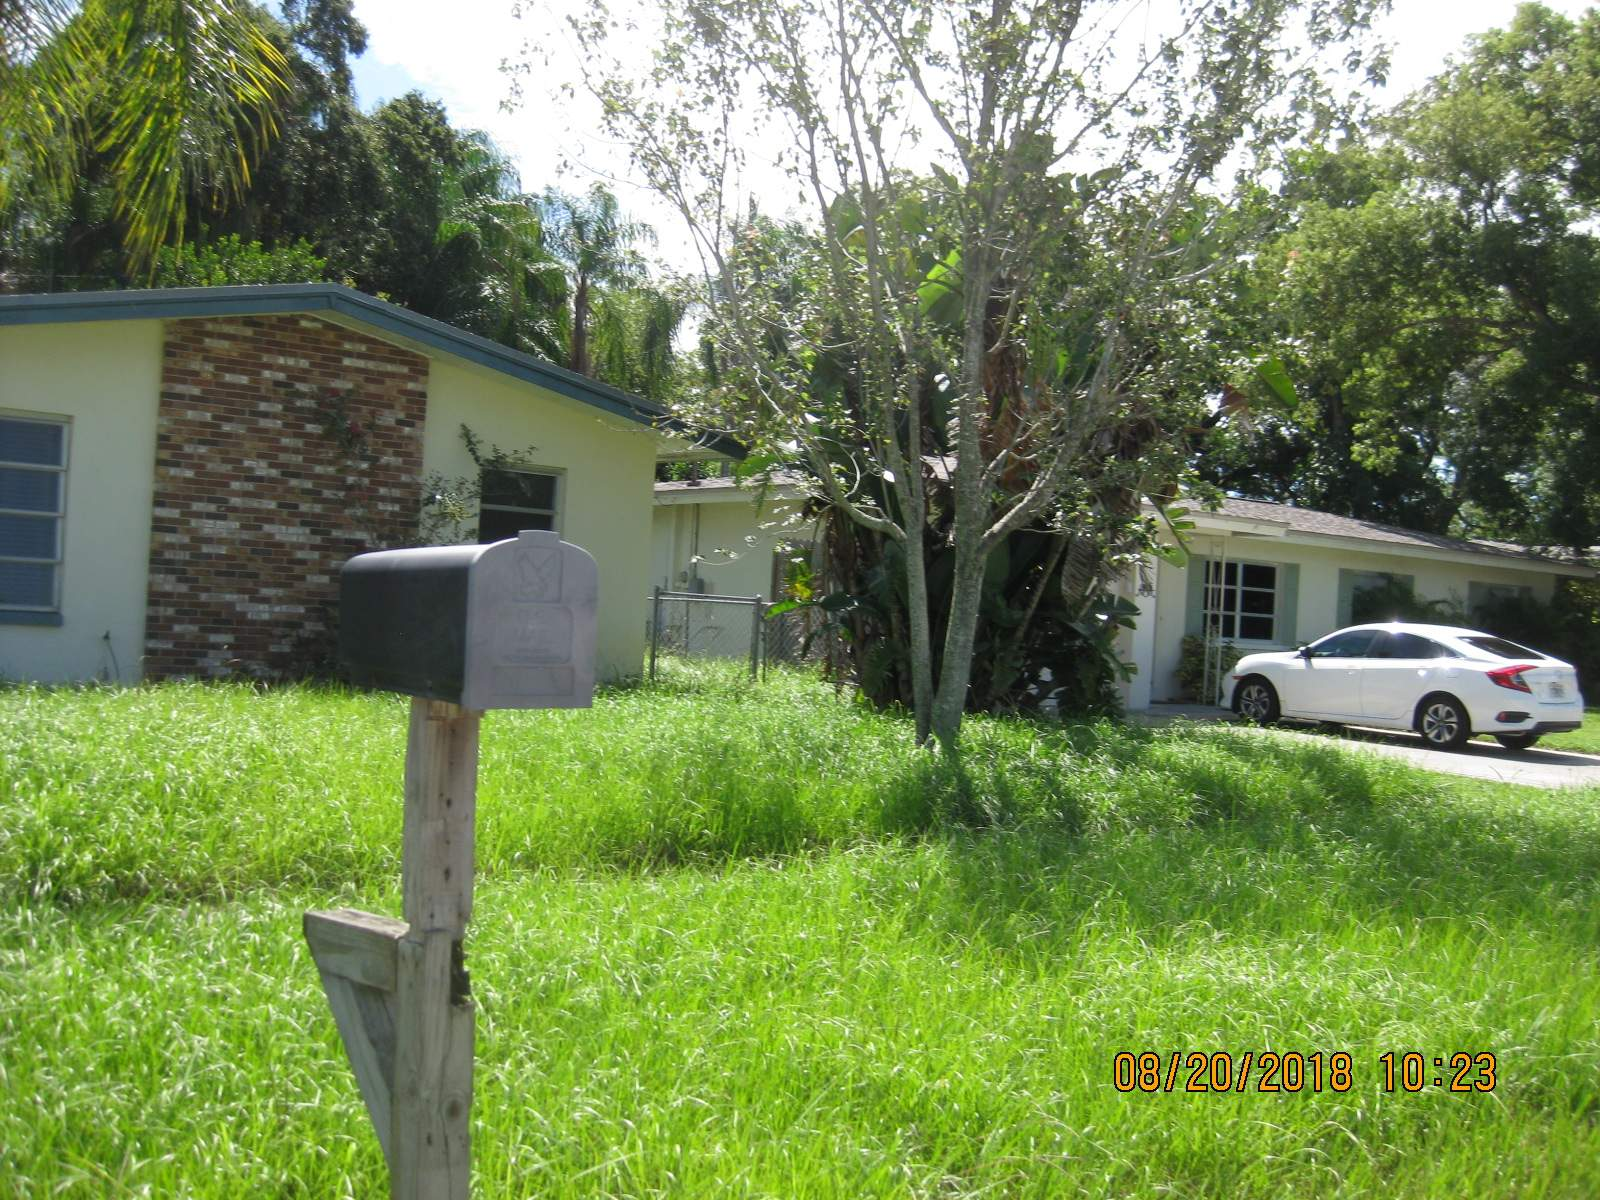grass: (1, 745, 1600, 1195)
